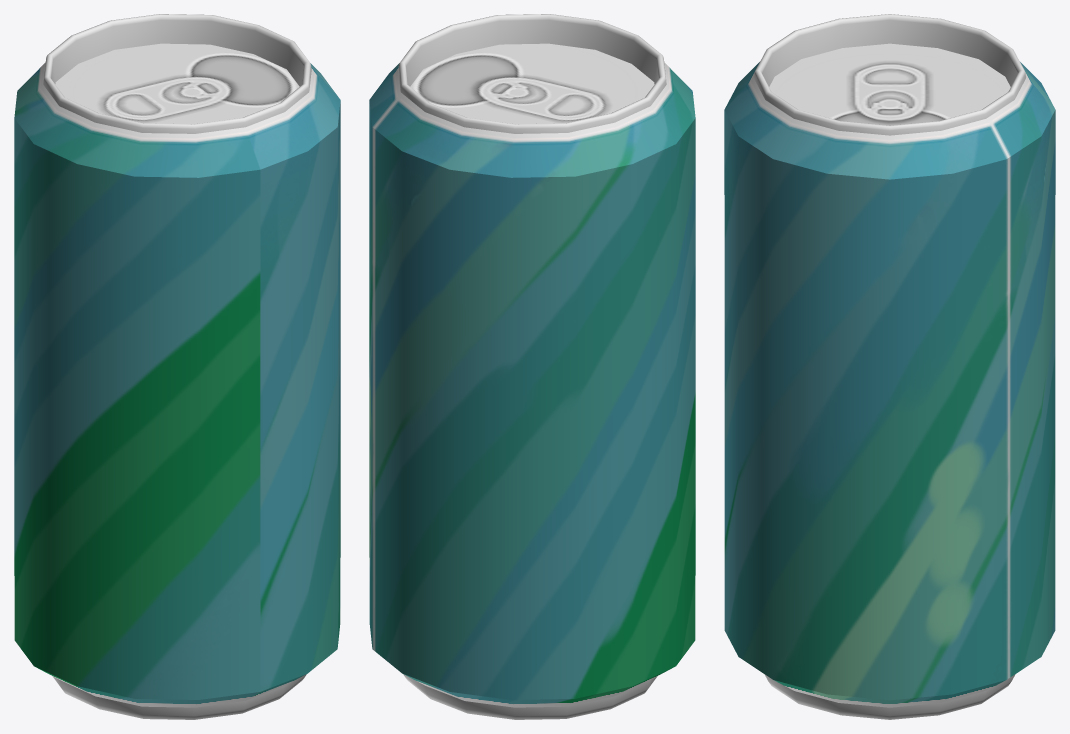
Rendered from 0_Other_009.fbx.
The picture shows the model from 3 angles, left to right: view 1: azimuth 30°, elevation 25°; view 2: azimuth 150°, elevation 25°; view 3: azimuth 270°, elevation 25°; orthographic projection.
Visible parts, largest first — view 1: Other_009; view 2: Other_009; view 3: Other_009.
Boxes of the visible parts, box(x1,y1,x2,y2) form: Other_009: box(14, 14, 340, 719); Other_009: box(369, 14, 695, 719); Other_009: box(724, 14, 1055, 719).
Size of the model in its own units: 8.93 by 17.77 by 8.93.
